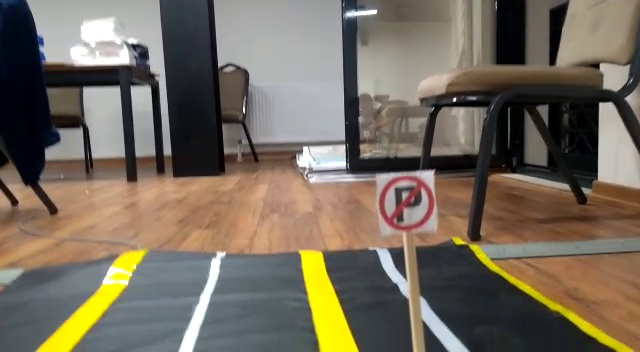park_yapilmaz: (376, 173, 436, 232)
